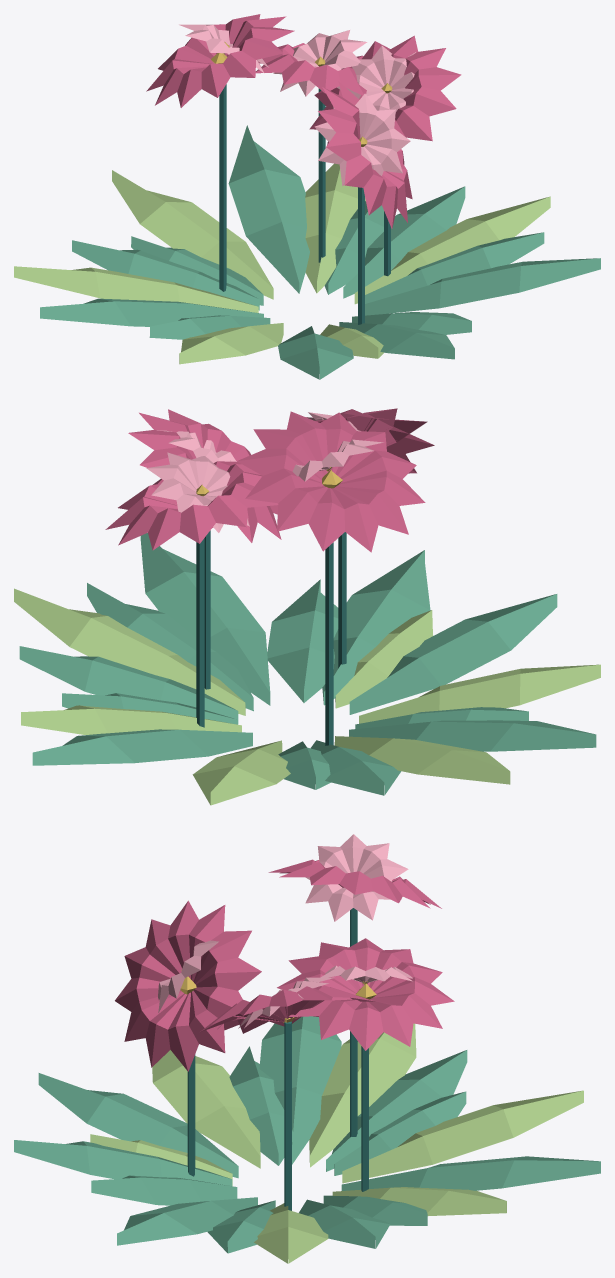
Rendered from reference-public_models_vegetation_peony.glb.
The picture shows the model from 3 angles, top to bottom: view 1: azimuth 30°, elevation 25°; view 2: azimuth 150°, elevation 25°; view 3: azimuth 270°, elevation 25°; orthographic projection. The views are drawn at different scales.
Parts seen in each view (by area): view 1: Sunwen_peony; view 2: Sunwen_peony; view 3: Sunwen_peony.
Part boxes in pixels (bbox=[...]): Sunwen_peony: bbox=[14, 14, 600, 379]; Sunwen_peony: bbox=[14, 408, 600, 805]; Sunwen_peony: bbox=[14, 834, 600, 1263].
Bounding box in the file's own units: 1.69 × 0.901 × 1.57.
